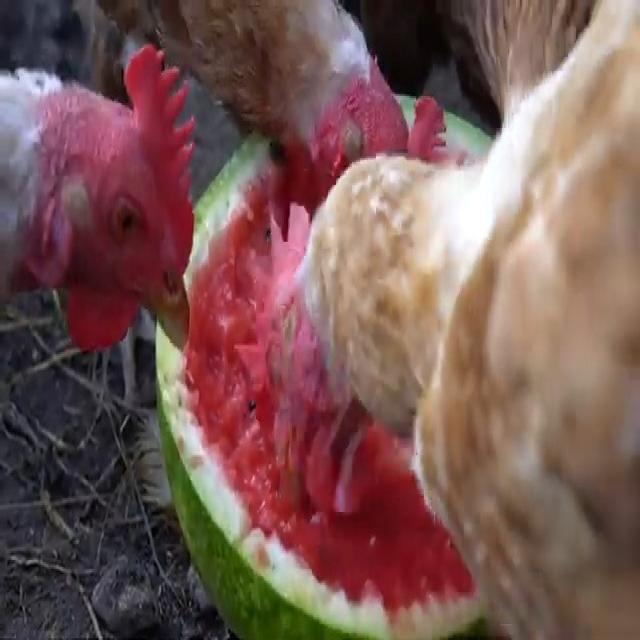feeding: (269, 99, 640, 640), (0, 42, 243, 316)
